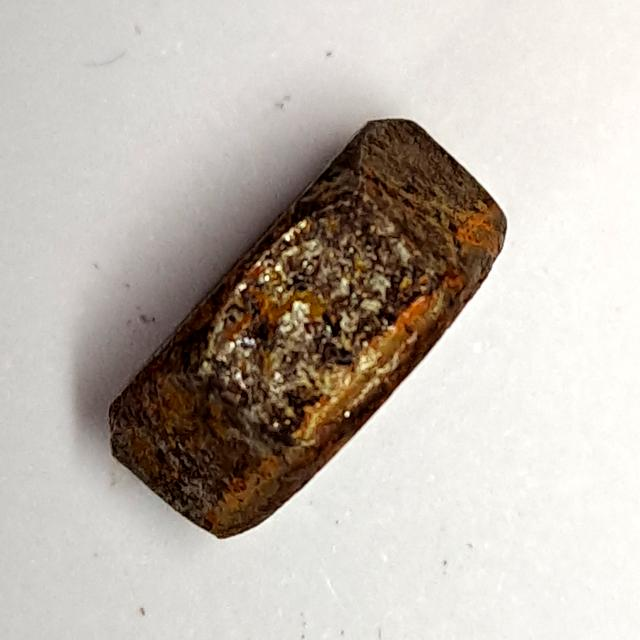Side_Rust: (100, 106, 517, 553)
